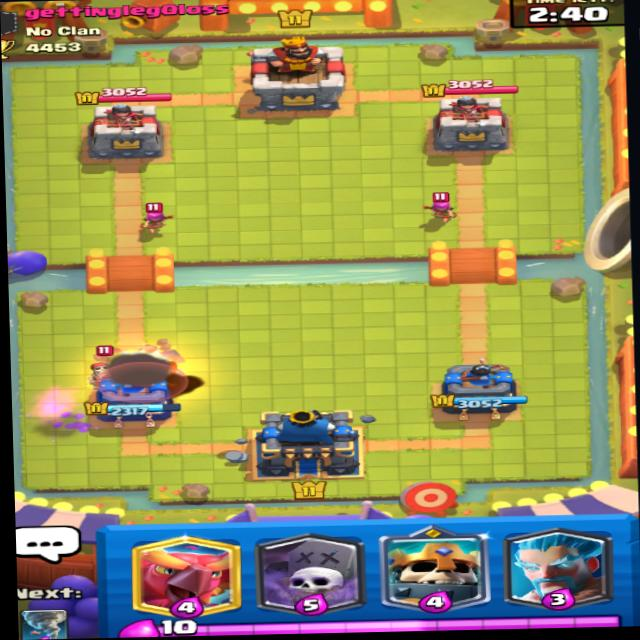archer: (125, 187, 185, 238), (425, 192, 468, 219)
wall-breaker: (85, 342, 134, 395)
